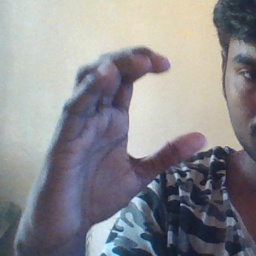C: (100, 38, 211, 189)
